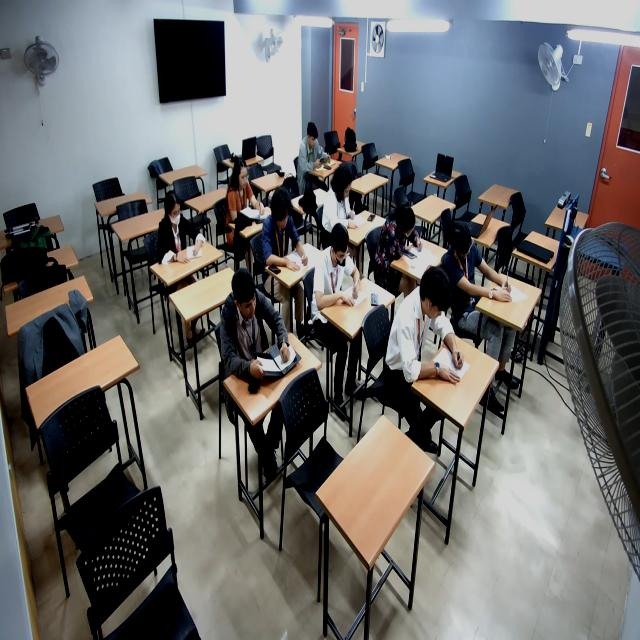read: (215, 272, 307, 393), (395, 278, 475, 395), (450, 228, 521, 310), (311, 239, 373, 314), (261, 206, 323, 281), (154, 196, 209, 274), (224, 164, 274, 223), (329, 172, 368, 243), (387, 208, 427, 268), (298, 129, 337, 178)
